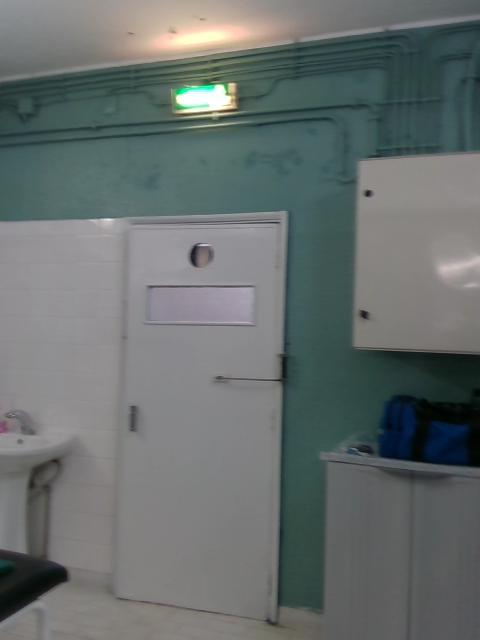closed_door: (110, 210, 284, 639)
